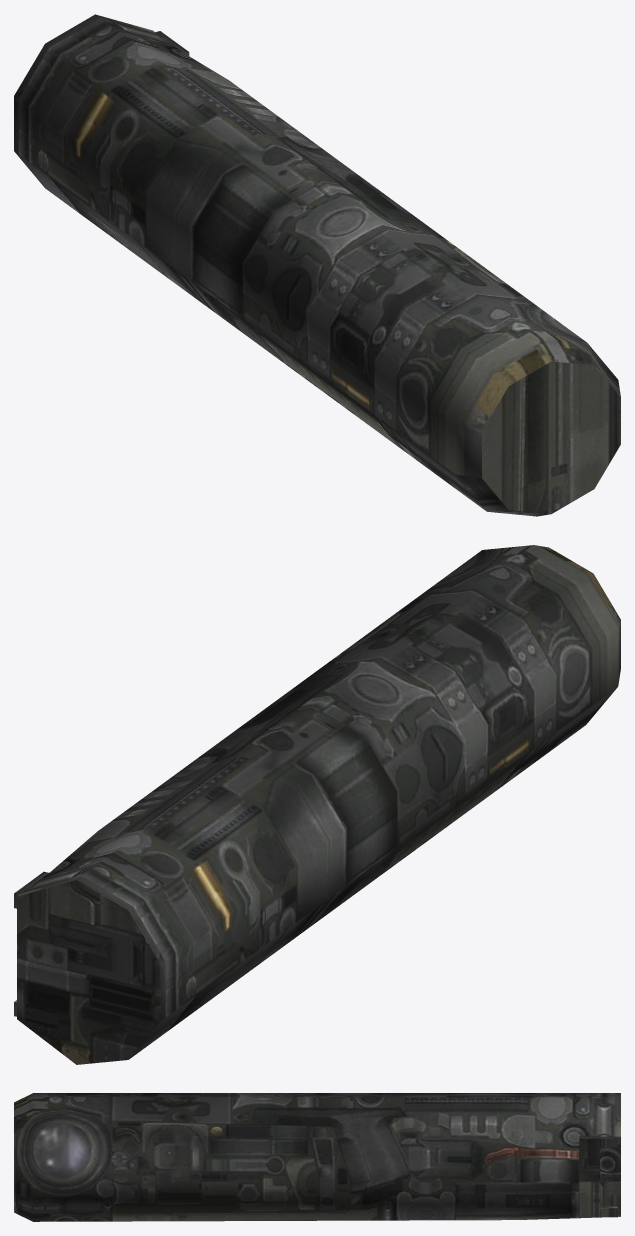
File: SMG_cfq_xsq_01_Body_Main_(000979).glb
3 renders of one model, top to bottom at view 1: azimuth 30°, elevation 25°; view 2: azimuth 150°, elevation 25°; view 3: azimuth 270°, elevation 25°, orthographic. The views are drawn at different scales.
Parts seen in each view (by area): view 1: cfq_xsq_01; view 2: cfq_xsq_01; view 3: cfq_xsq_01.
Boxes of the visible parts, x1,y1,x2,y2 form: cfq_xsq_01: (14, 14, 620, 516); cfq_xsq_01: (14, 545, 620, 1064); cfq_xsq_01: (14, 1093, 620, 1221).
Size of the model in its own units: 0.0547 by 0.0575 by 0.2661.
Materials: 1 (1 with a texture image).
